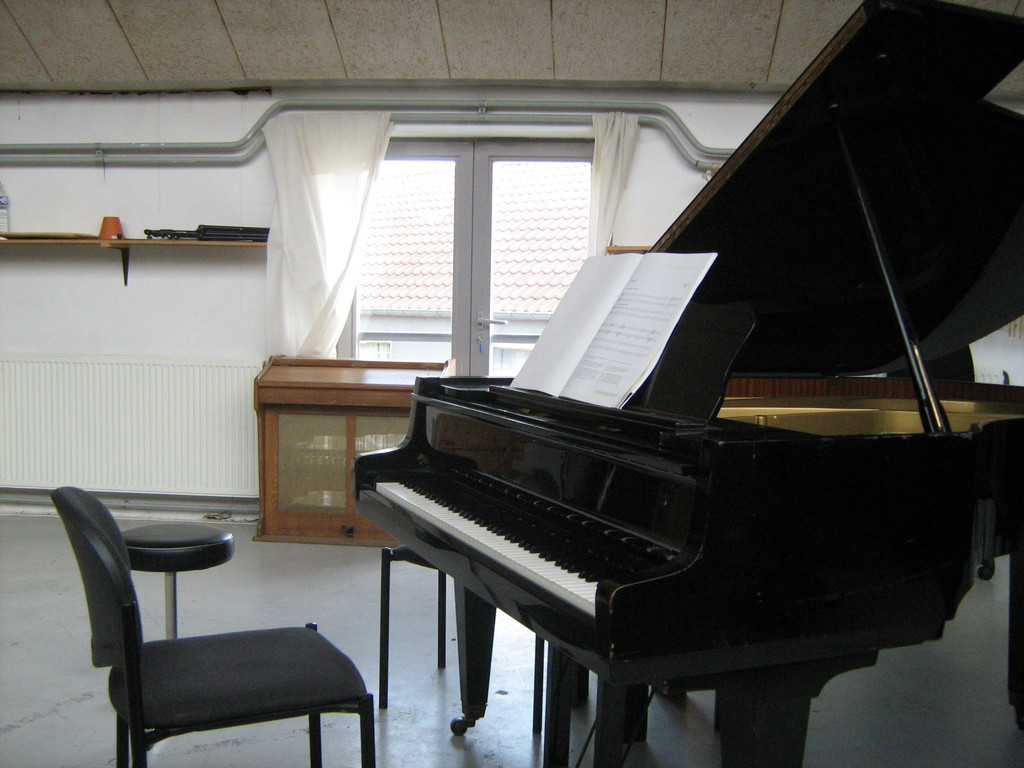Table: (250, 351, 457, 548)
